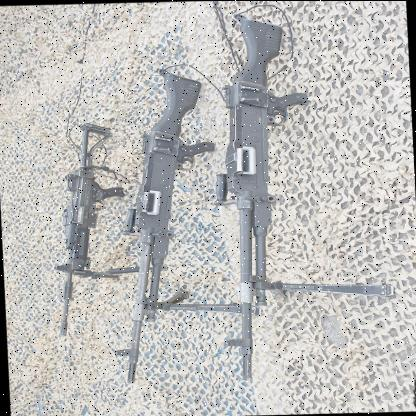rifle: (200, 11, 314, 384), (101, 72, 215, 386), (44, 111, 130, 339)
